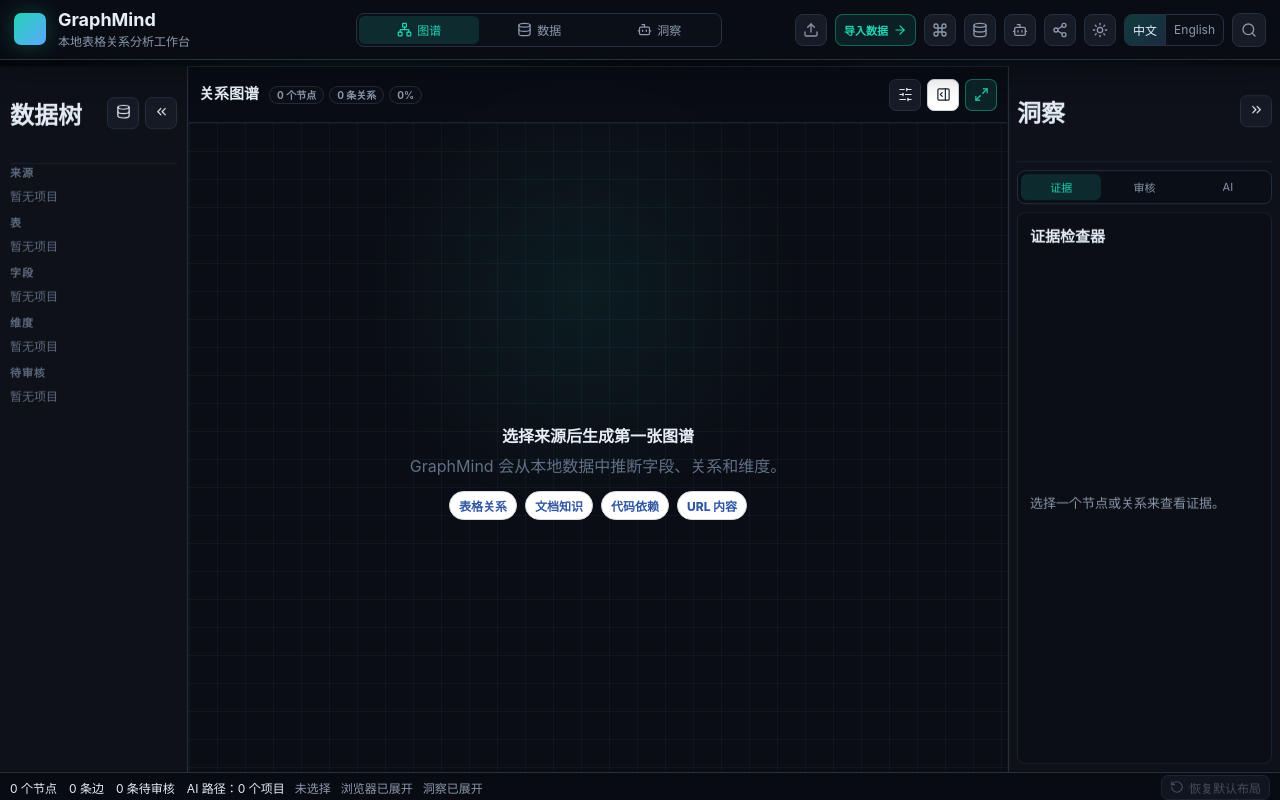
App relationship review wiring › loads persisted import task history on startup
Click the button named "数据操作" at (123, 114), box [107,98,139,130]
(page scrolled)
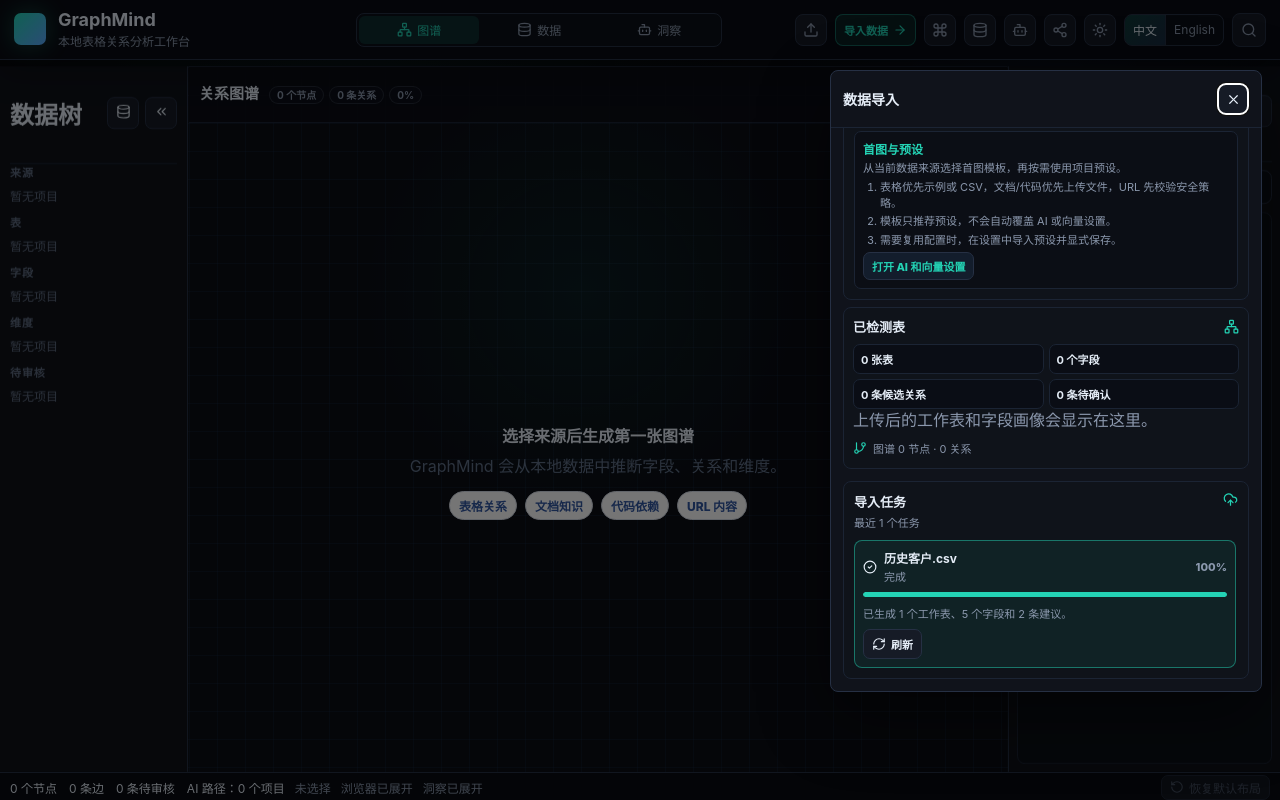
Expected: the text "历史客户.csv" is shown, [884,551,957,566]
Expected: the text "完成" is shown, [884,570,906,584]
Expected: the text "已生成 1 个工作表、5 个字段和 2 条建议。" is shown, [863,607,1072,621]
